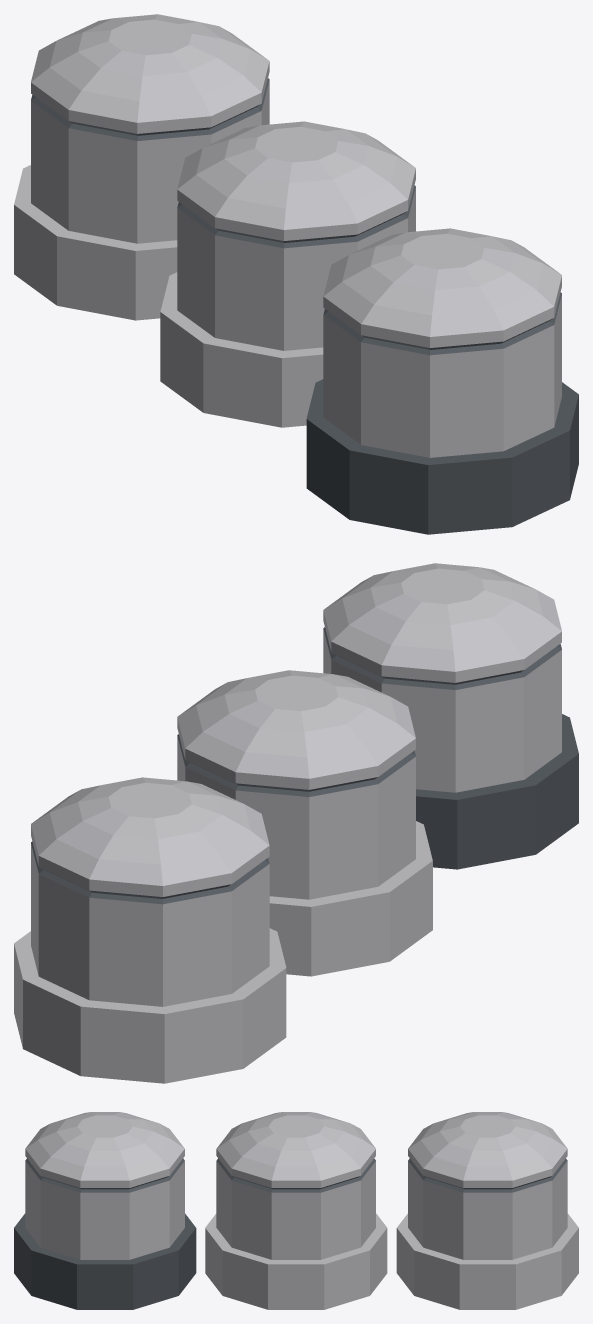
File: Mothership_01_Vessels.fbx
3 renders of one model, top to bottom at view 1: azimuth 30°, elevation 25°; view 2: azimuth 150°, elevation 25°; view 3: azimuth 270°, elevation 25°, orthographic. The views are drawn at different scales.
Parts seen in each view (by area): view 1: Mothership_01_Vessels; view 2: Mothership_01_Vessels; view 3: Mothership_01_Vessels.
Part boxes in pixels (box(x1,y1,x2,y2)): Mothership_01_Vessels: box(14, 14, 578, 534); Mothership_01_Vessels: box(14, 563, 578, 1083); Mothership_01_Vessels: box(14, 1112, 578, 1309).
Size of the model in its own units: 733 by 686 by 2391.
Materials: 1 (1 with a texture image).
